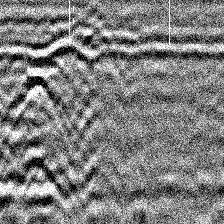Utility: (1, 150, 74, 207), (3, 67, 69, 124)
